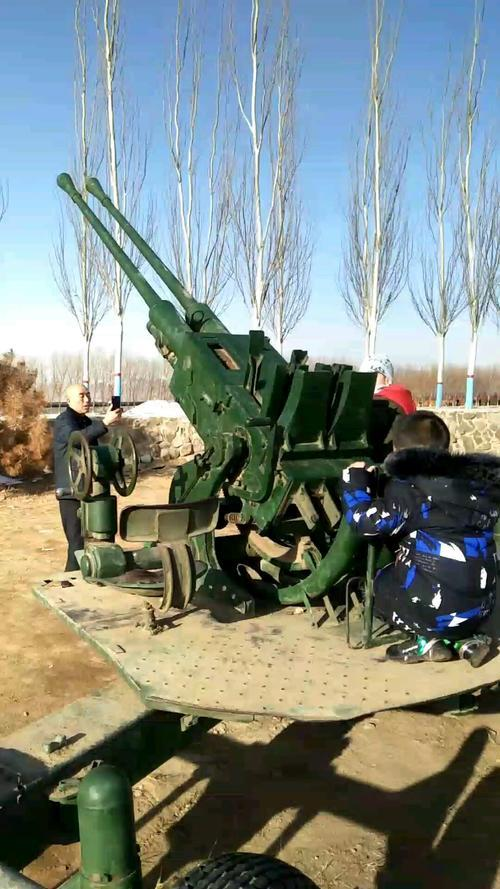MIL_SPG: (57, 174, 394, 621)
